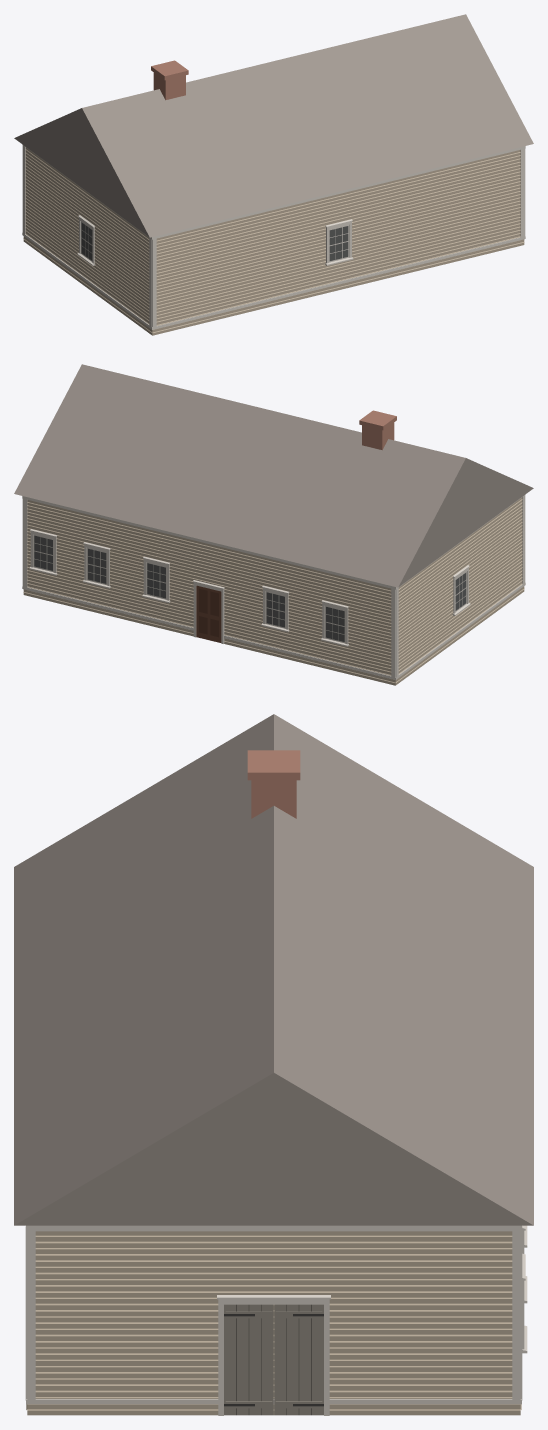
File: old_bank_building__frame_1834.glb
3 views of the same model, one above another, from view 1: azimuth 30°, elevation 25°; view 2: azimuth 150°, elevation 25°; view 3: azimuth 270°, elevation 25° (orthographic). The views are drawn at different scales.
Visible parts, largest first — view 1: old_bank_building__frame_1834; view 2: old_bank_building__frame_1834; view 3: old_bank_building__frame_1834.
Part boxes in pixels (x1,y1,x2,y2): old_bank_building__frame_1834: (14, 14, 533, 335); old_bank_building__frame_1834: (14, 364, 533, 685); old_bank_building__frame_1834: (14, 714, 533, 1415).
Bounding box in the file's own units: 15.74 × 7.84 × 9.64.
